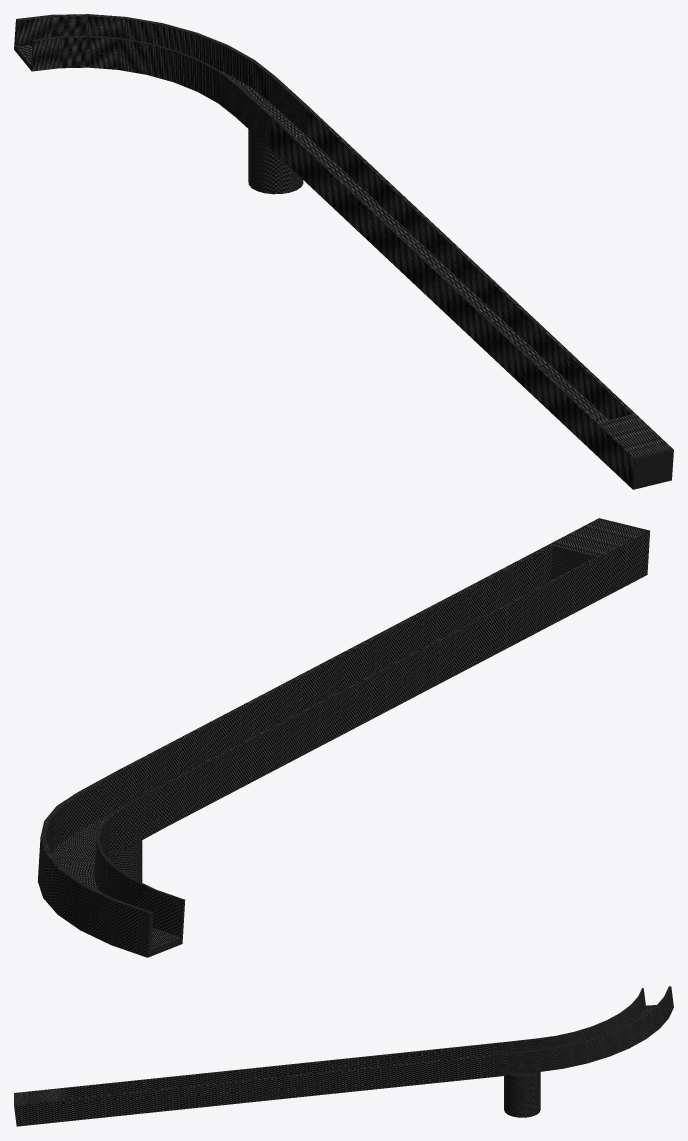
File: BallRamp.obj
The picture shows the model from 3 angles, top to bottom: view 1: azimuth 30°, elevation 25°; view 2: azimuth 150°, elevation 25°; view 3: azimuth 270°, elevation 25°; orthographic projection. The views are drawn at different scales.
Parts seen in each view (by area): view 1: BallRamp; view 2: BallRamp; view 3: BallRamp.
Boxes of the visible parts, bbox=[...] form: BallRamp: bbox=[14, 14, 673, 489]; BallRamp: bbox=[37, 518, 649, 957]; BallRamp: bbox=[14, 986, 673, 1126].
Size of the model in its own units: 95.37 by 70.77 by 473.
Materials: 1 (1 with a texture image).
